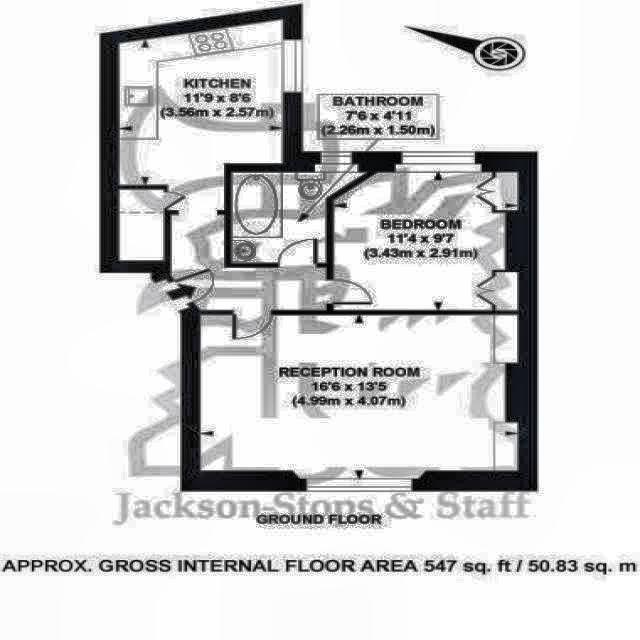room: (95, 15, 334, 342), (201, 315, 518, 471), (334, 172, 519, 310), (231, 172, 368, 263), (119, 189, 164, 262)
